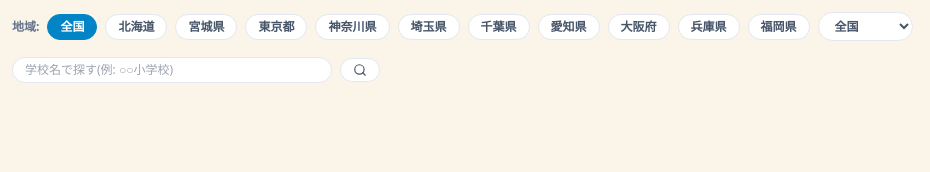
Test: ReportRegionFilter › 検索が失敗したらエラーメッセージを表示する
Step 1. Type "テスト小学校" into the field labelled "学校名で探す" → [172, 70], box [12,57,332,83]
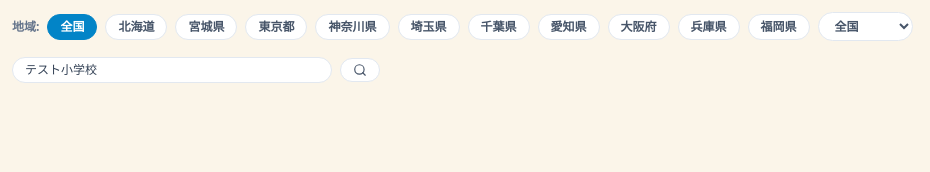
Step 2. Click the button named "学校を検索" → [360, 70], box [340,58,380,82]
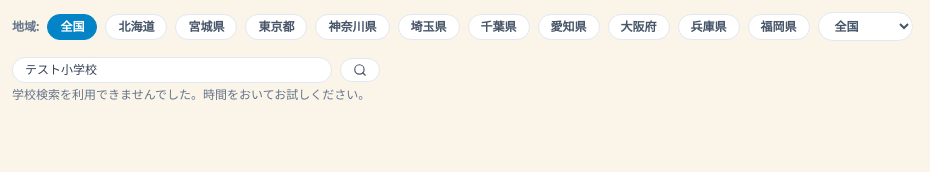
Now the text "学校検索を利用できませんでした。時間をおいてお試しください。" is shown, box [12,86,370,103]
